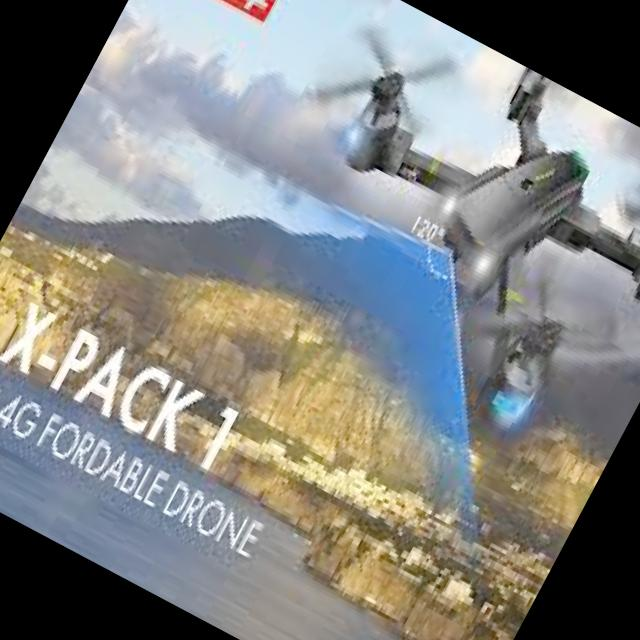drone: (215, 0, 640, 499)
